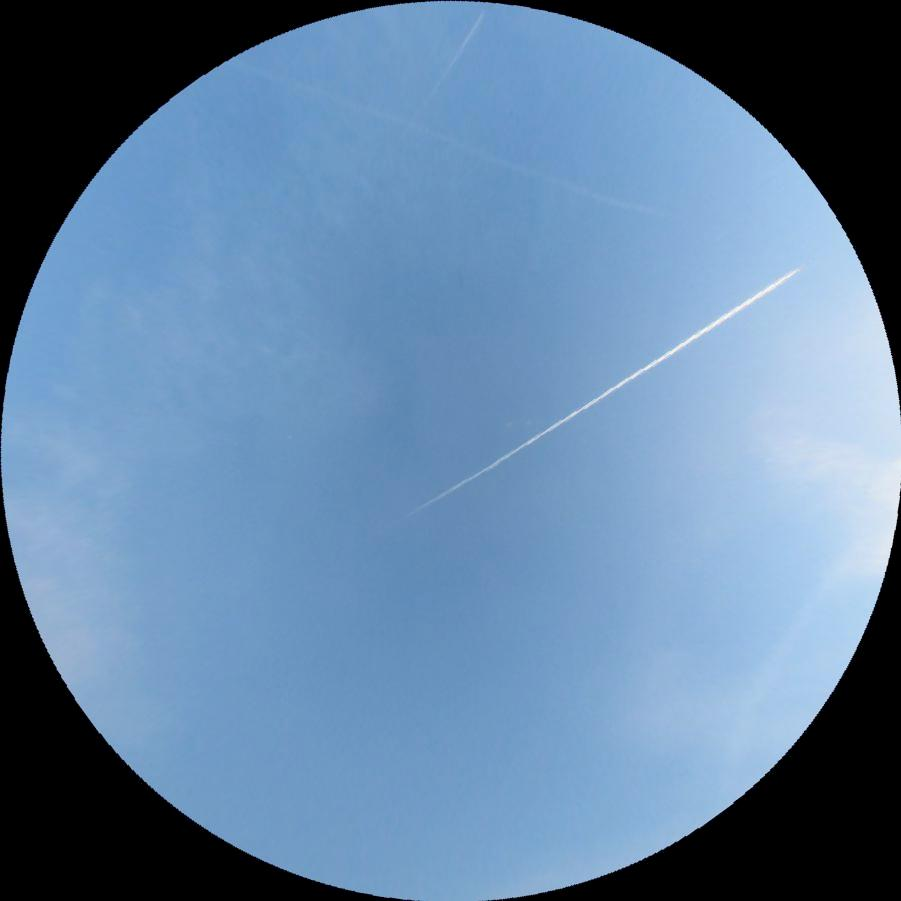contrail old: (222, 53, 659, 221)
contrail young: (403, 262, 805, 522), (410, 8, 487, 125)
